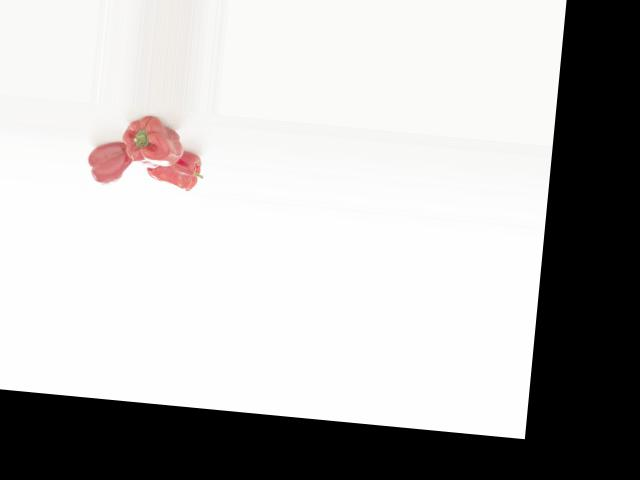bell_pepper: (83, 137, 131, 186)
